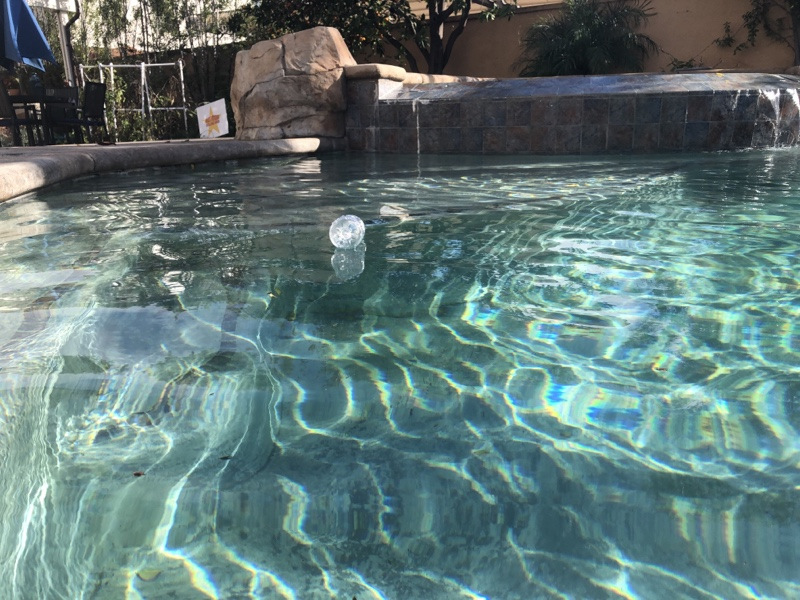Plastic Bottle: (329, 213, 367, 252)
